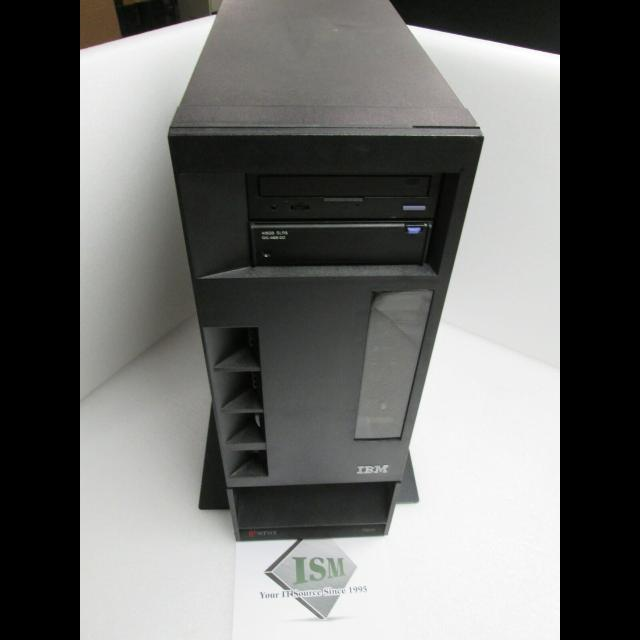Desktop-PC: (163, 1, 492, 550)
